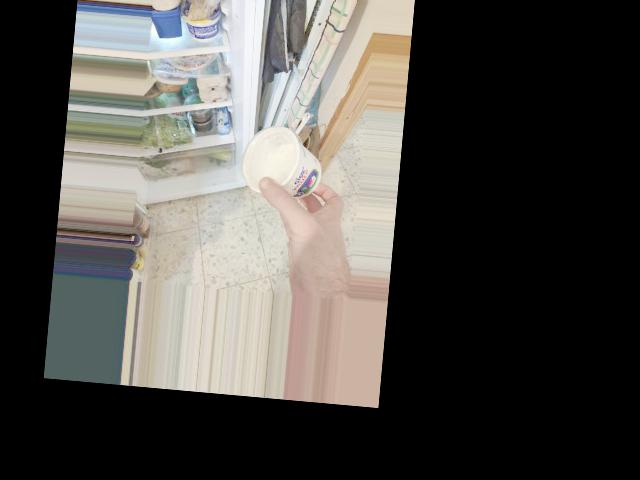cotage: (239, 122, 329, 206)
